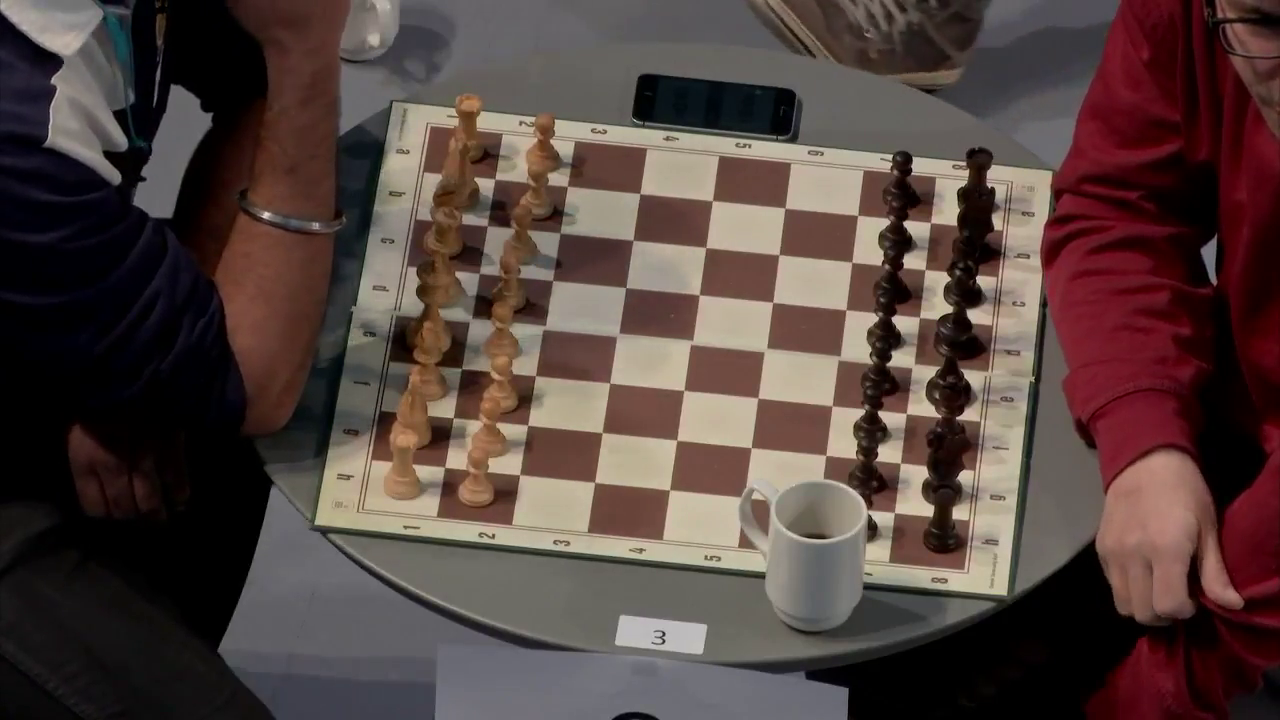black-bishop: (925, 375, 966, 454), (943, 230, 983, 307)
black-king: (924, 305, 971, 406)
black-knight: (921, 427, 963, 506), (952, 186, 995, 262)
black-pawn: (846, 435, 885, 495), (872, 244, 911, 304), (860, 337, 898, 396), (881, 150, 919, 208), (840, 486, 878, 543), (877, 194, 913, 254), (852, 384, 888, 442), (866, 293, 902, 349)
black-queen: (932, 258, 979, 357)
black-rook: (923, 485, 959, 553), (956, 146, 993, 210)
white-bishop: (404, 319, 449, 402), (423, 177, 464, 256)
white-king: (406, 247, 453, 353)
white-knight: (434, 130, 480, 214), (389, 368, 433, 451)
white-pawn: (456, 447, 496, 508), (482, 299, 521, 361), (501, 204, 539, 265), (481, 355, 520, 414), (471, 398, 508, 458), (517, 163, 555, 221), (525, 112, 561, 173), (491, 253, 527, 312)
white-queen: (418, 206, 464, 308)
white-rook: (383, 426, 422, 500), (447, 92, 486, 163)
